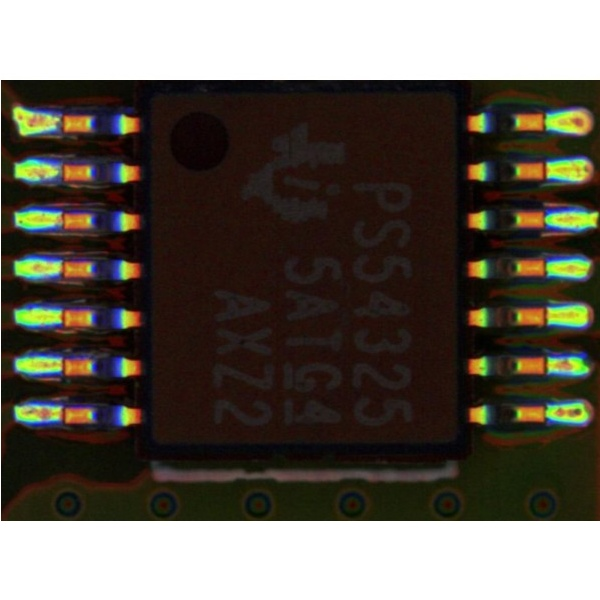Bad_podu: (531, 310, 566, 320), (42, 361, 76, 370), (46, 408, 73, 417)
